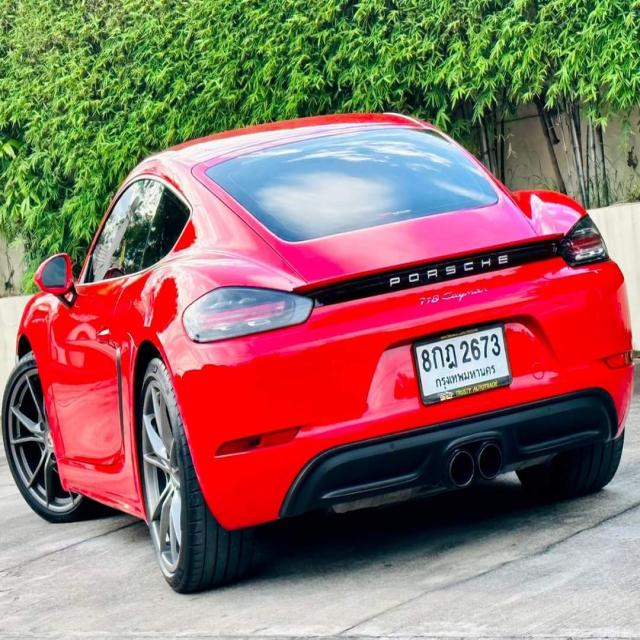license_plate: (407, 316, 517, 410)
